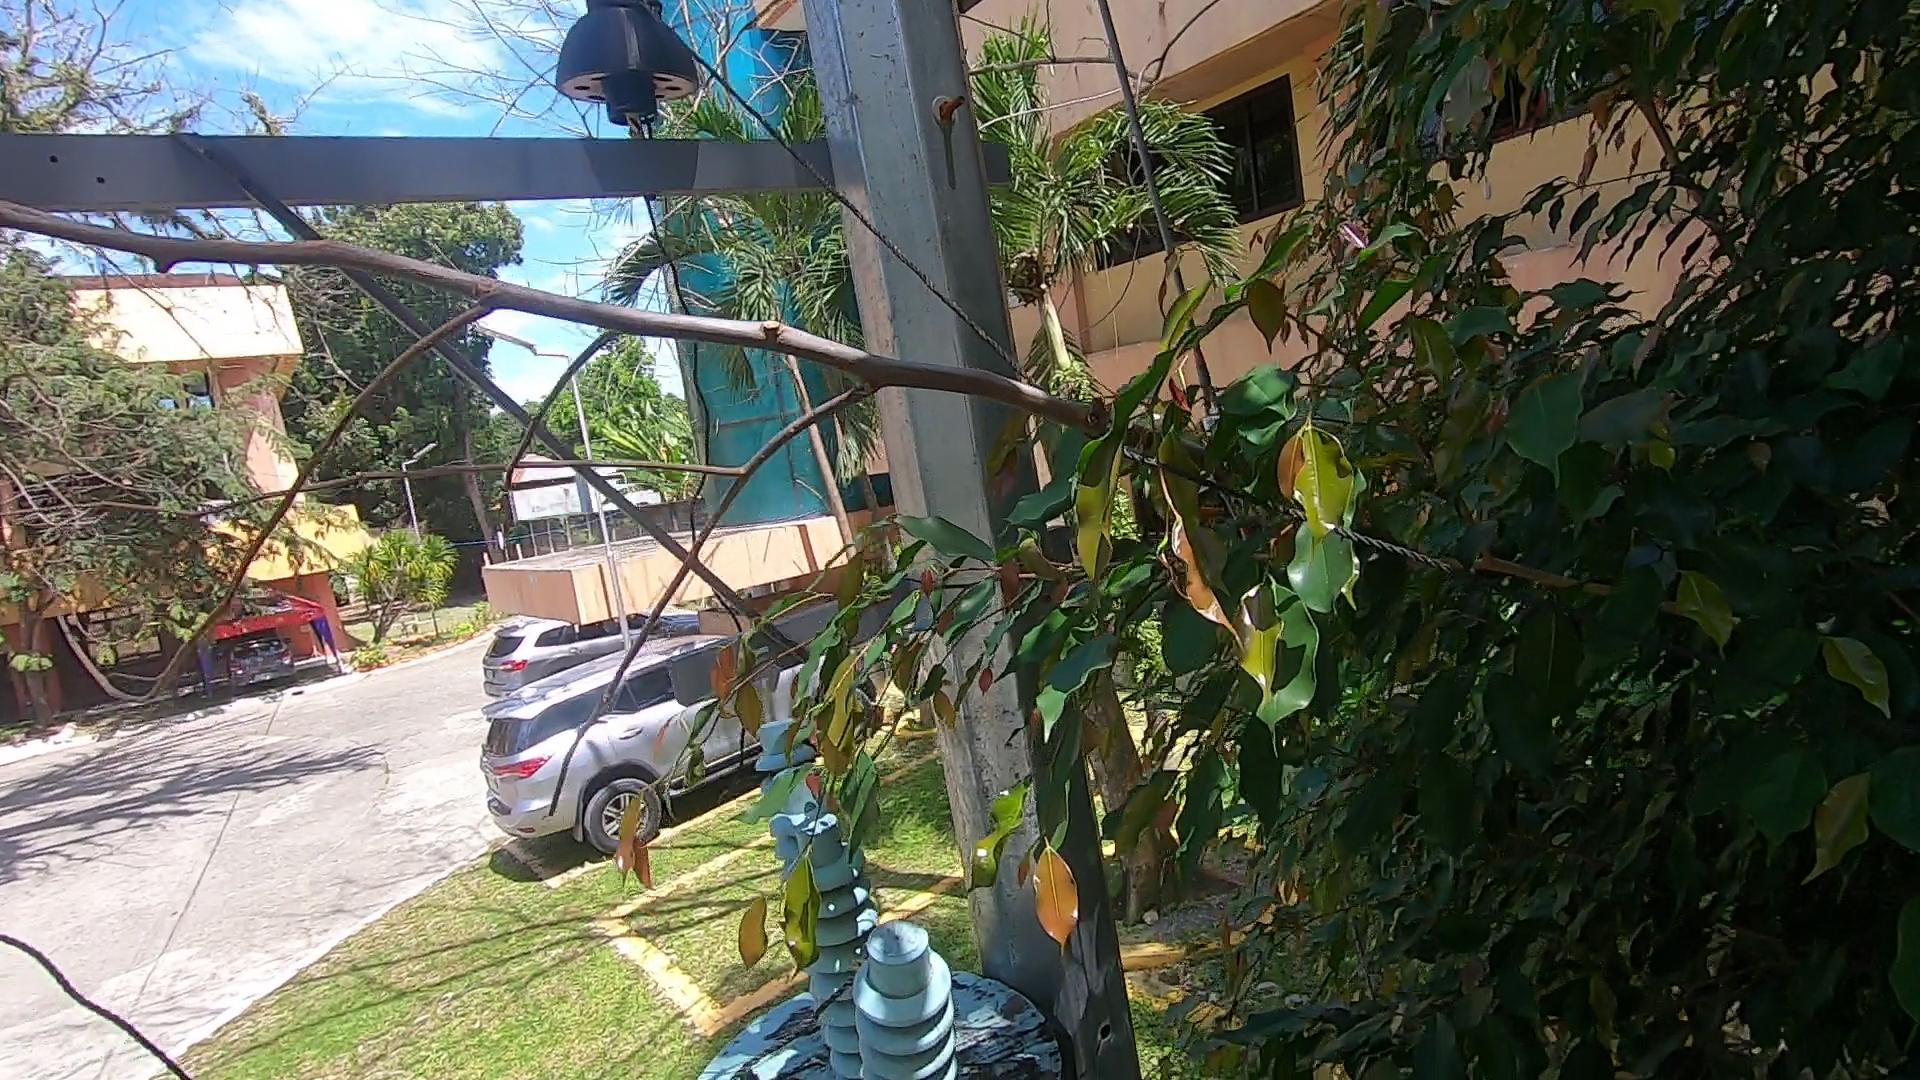tree branch: (1, 167, 1207, 823)
